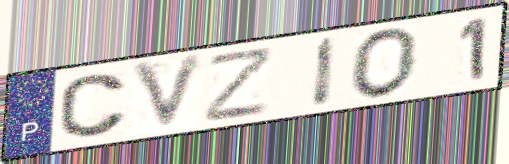1: (456, 15, 487, 83)
C: (56, 71, 130, 141)
I: (309, 34, 339, 110)
O: (348, 25, 421, 101)
V: (128, 50, 210, 136)
Z: (203, 44, 277, 126)
